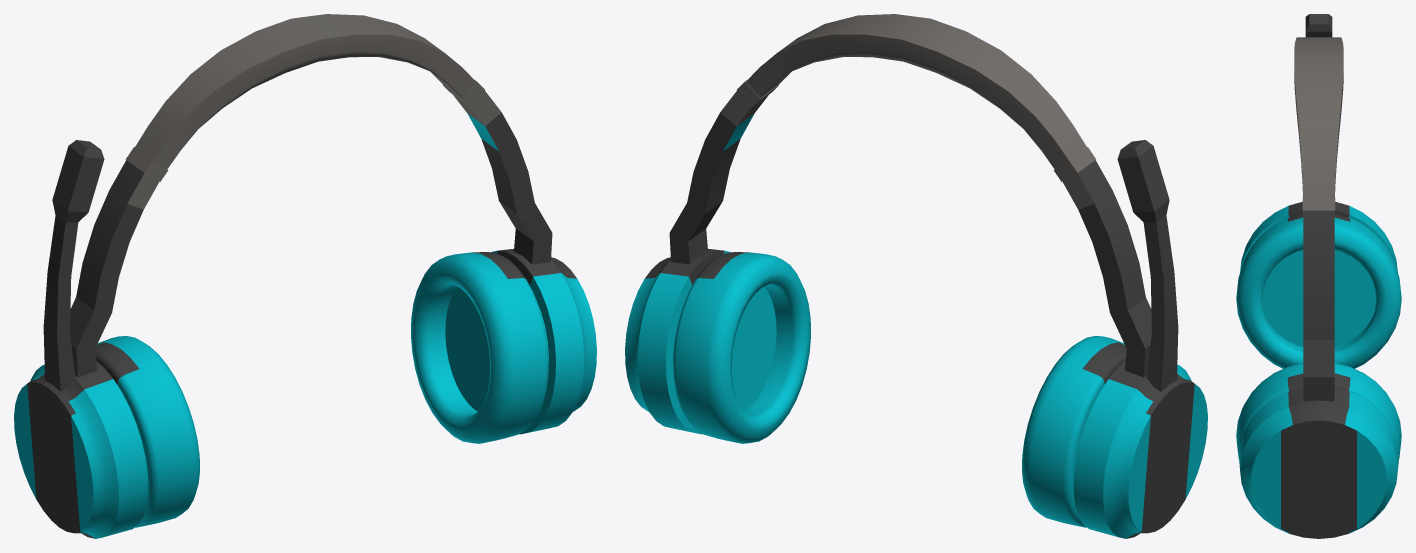
Rendered from headphone.fbx.
3 renders of one model, left to right at view 1: azimuth 30°, elevation 25°; view 2: azimuth 150°, elevation 25°; view 3: azimuth 270°, elevation 25°, orthographic. The views are drawn at different scales.
Visible parts, largest first — view 1: computer_headphones_01; view 2: computer_headphones_01; view 3: computer_headphones_01.
Part boxes in pixels (x1,y1,x2,y2): computer_headphones_01: [14, 14, 596, 538]; computer_headphones_01: [625, 14, 1207, 538]; computer_headphones_01: [1236, 14, 1401, 538].
Bounding box in the file's own units: 18.97 × 15.78 × 6.11.
